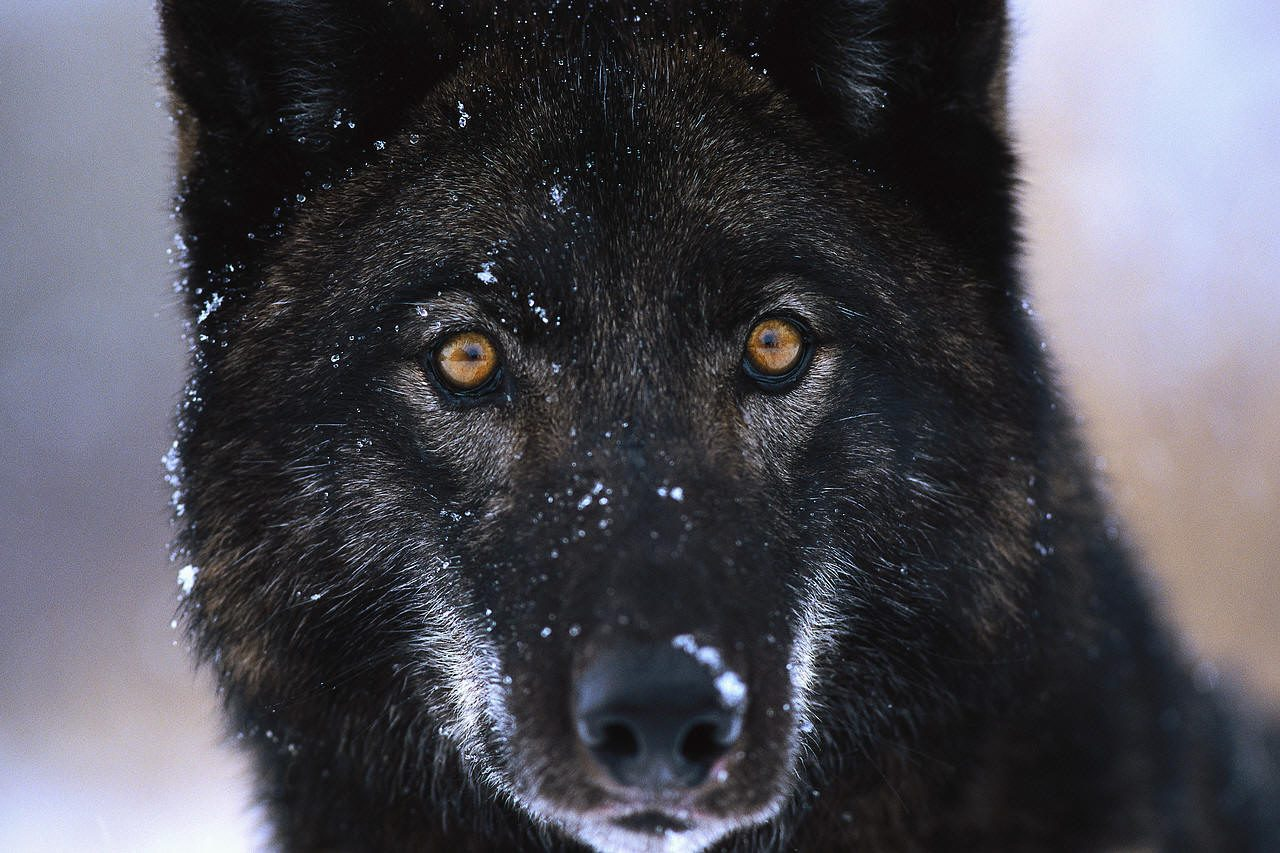Lobo: (83, 28, 1092, 813)
